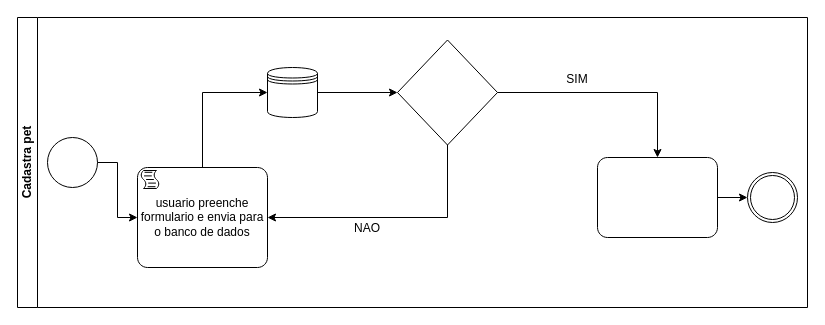
Some shapes in this 825 by 325 pixel diagram are drawn without their labels. The centre of each missing label's shape, as x and y in pixels:
"Informações validas?" goes at pixel 447 92.
"Pet cadastrado é inserido na pagina de pets do usuario" goes at pixel 657 197.
